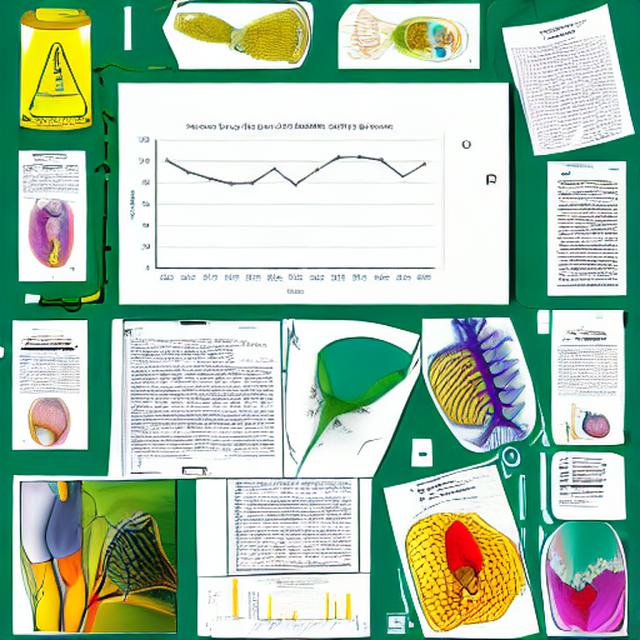Graph: (121, 119, 438, 301), (247, 579, 341, 637)
